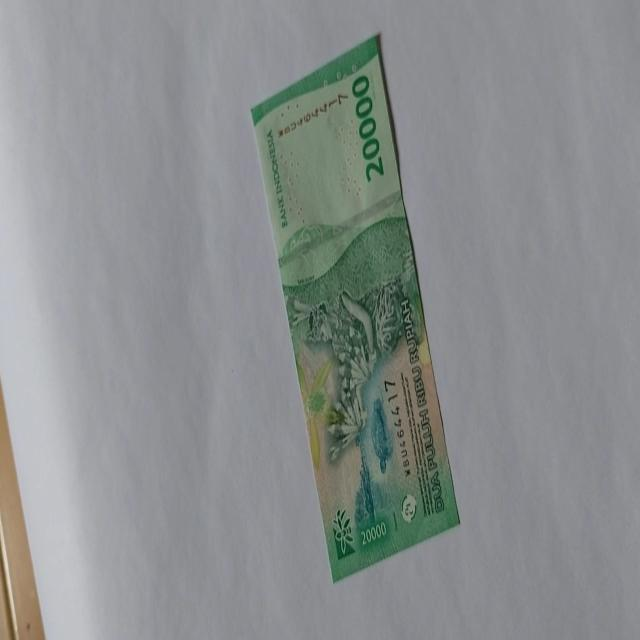dua puluh ribu rupiah: (248, 32, 462, 582), (288, 273, 416, 466)
